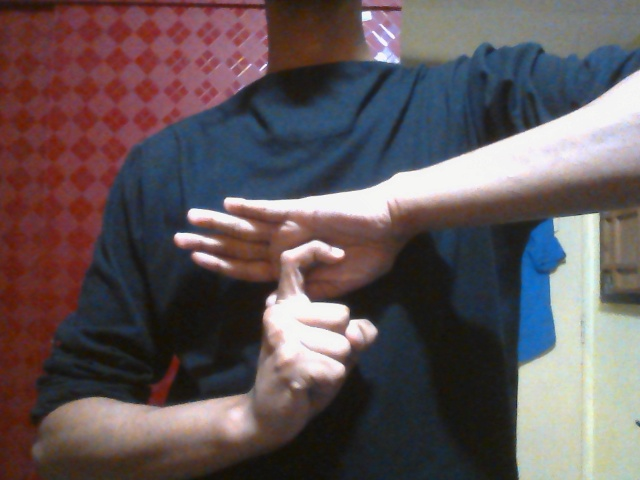R: (171, 193, 405, 443)
